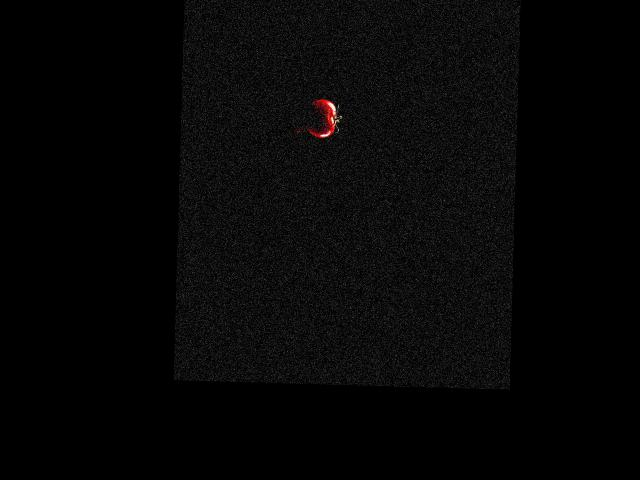tomato: (305, 98, 337, 137)
